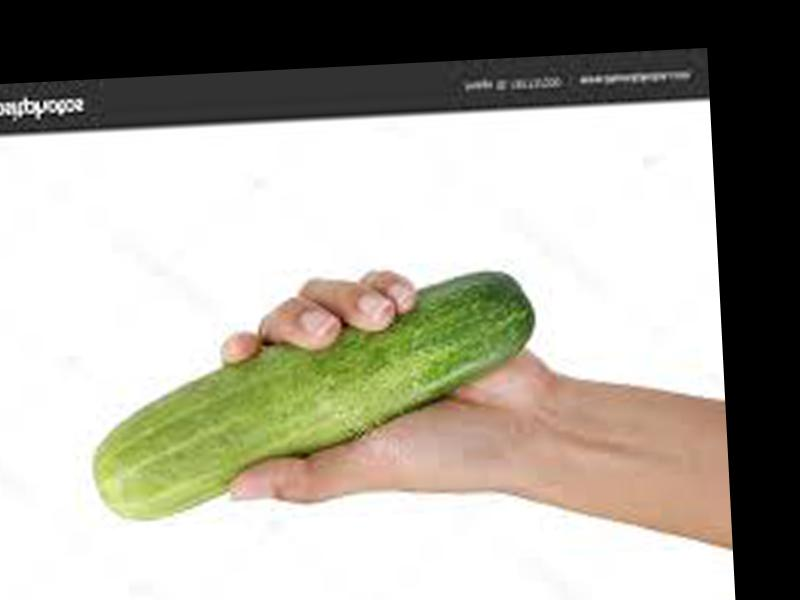Cucumber: (86, 272, 545, 526)
